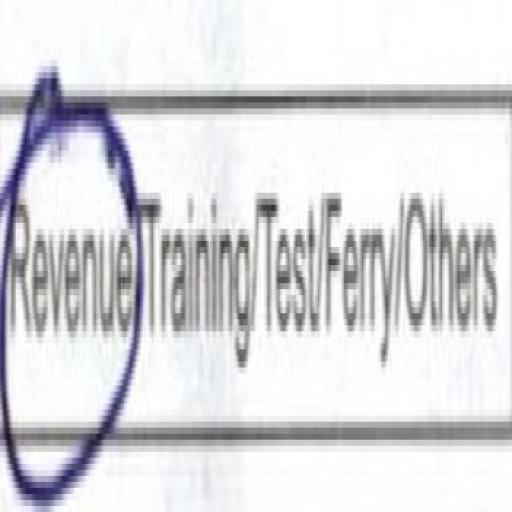check: (0, 42, 142, 512)
